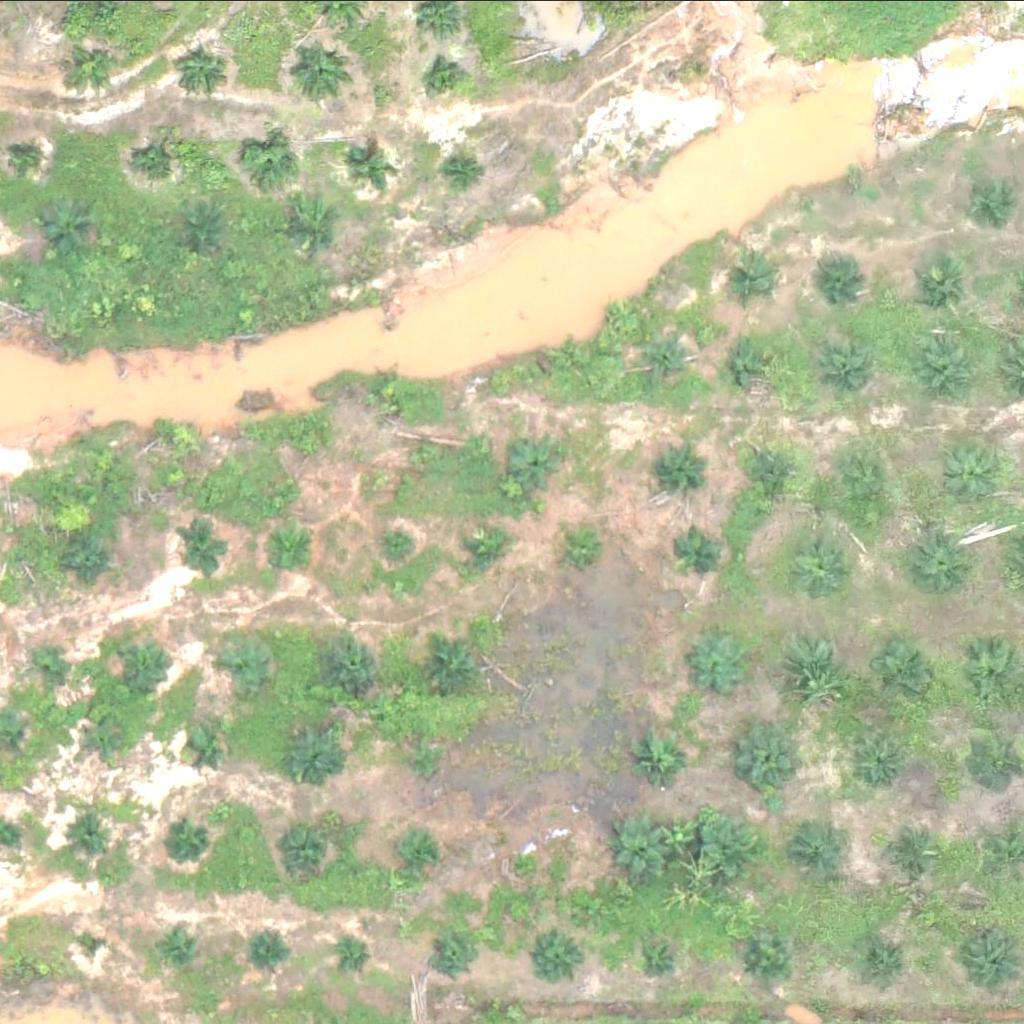Kelapa_Sawit: (843, 452, 906, 515), (819, 337, 882, 400), (283, 727, 346, 790), (636, 729, 699, 792), (736, 725, 799, 788), (219, 630, 282, 693), (916, 339, 979, 402), (612, 815, 675, 878), (875, 642, 938, 704), (790, 531, 853, 593), (688, 632, 751, 694), (911, 532, 974, 594), (949, 443, 1012, 505), (907, 253, 970, 315), (701, 814, 764, 876), (788, 636, 851, 698), (290, 39, 353, 101), (326, 636, 377, 686), (429, 637, 480, 687), (531, 931, 582, 981), (461, 526, 512, 576), (67, 42, 118, 92), (280, 824, 331, 874), (161, 812, 212, 862), (117, 635, 167, 685), (869, 931, 919, 981), (801, 829, 851, 879), (894, 821, 944, 871), (857, 738, 907, 788), (741, 935, 791, 985), (818, 249, 868, 299), (649, 442, 699, 492), (674, 524, 724, 574), (644, 335, 694, 385), (513, 436, 563, 486), (729, 339, 779, 389), (728, 253, 778, 303), (964, 171, 1014, 221), (753, 445, 803, 495), (633, 931, 683, 981), (138, 134, 188, 184), (247, 136, 297, 186), (180, 47, 230, 97), (181, 522, 231, 572), (271, 524, 321, 574), (46, 200, 96, 250), (66, 531, 116, 581), (297, 198, 347, 248), (551, 339, 589, 377), (562, 527, 600, 565), (352, 149, 390, 187), (443, 148, 481, 186), (426, 61, 464, 99), (403, 435, 441, 473), (290, 425, 328, 463), (165, 419, 203, 457), (255, 927, 293, 965), (335, 933, 373, 971), (25, 641, 63, 679), (399, 833, 437, 871), (365, 372, 403, 409), (185, 209, 223, 246), (80, 922, 117, 960), (164, 925, 201, 963), (67, 813, 104, 851), (88, 719, 126, 756), (405, 738, 443, 775), (431, 937, 469, 974), (384, 526, 421, 563), (192, 728, 229, 765), (14, 142, 39, 167)
